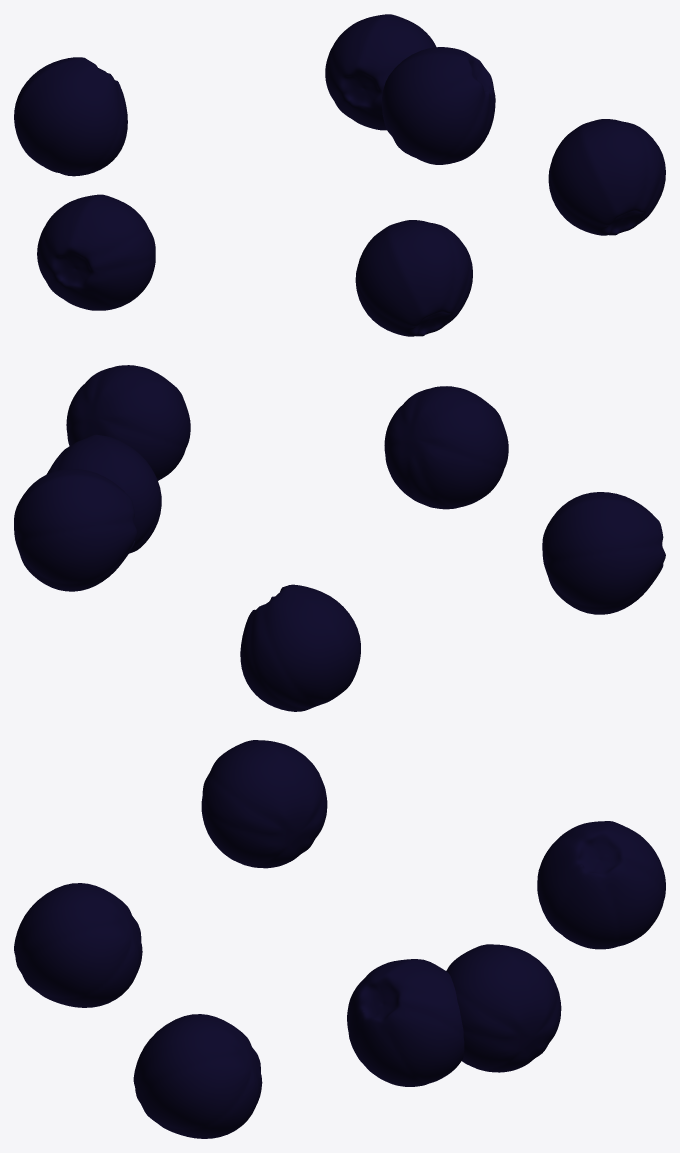
The model's file is blueberries.glb.
The picture shows the model from 3 angles, top to bottom: view 1: azimuth 30°, elevation 25°; view 2: azimuth 150°, elevation 25°; view 3: azimuth 270°, elevation 25°; orthographic projection. The views are drawn at different scales.
Visible parts, largest first — view 1: 10167_Blueberry_v01_it2.003; view 2: 10167_Blueberry_v01_it2.003; view 3: 10167_Blueberry_v01_it2.003.
Part boxes in pixels (x1,y1,x2,y2): 10167_Blueberry_v01_it2.003: [14, 14, 665, 336]; 10167_Blueberry_v01_it2.003: [14, 365, 665, 711]; 10167_Blueberry_v01_it2.003: [14, 740, 665, 1138].
Size of the model in its own units: 4.69 by 0.9799 by 4.17.
